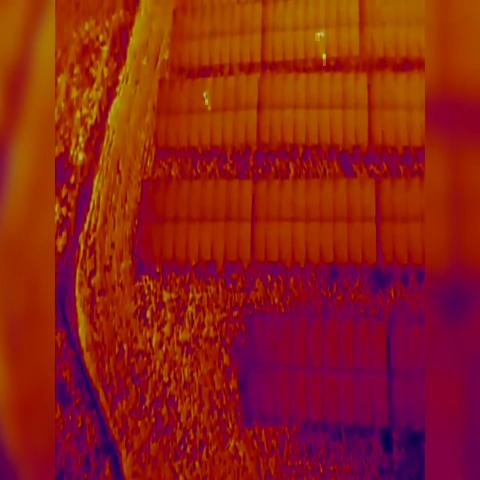fault: (315, 33, 320, 41), (323, 54, 326, 66), (322, 31, 326, 38), (208, 107, 213, 112), (203, 94, 207, 100), (205, 102, 208, 106)
